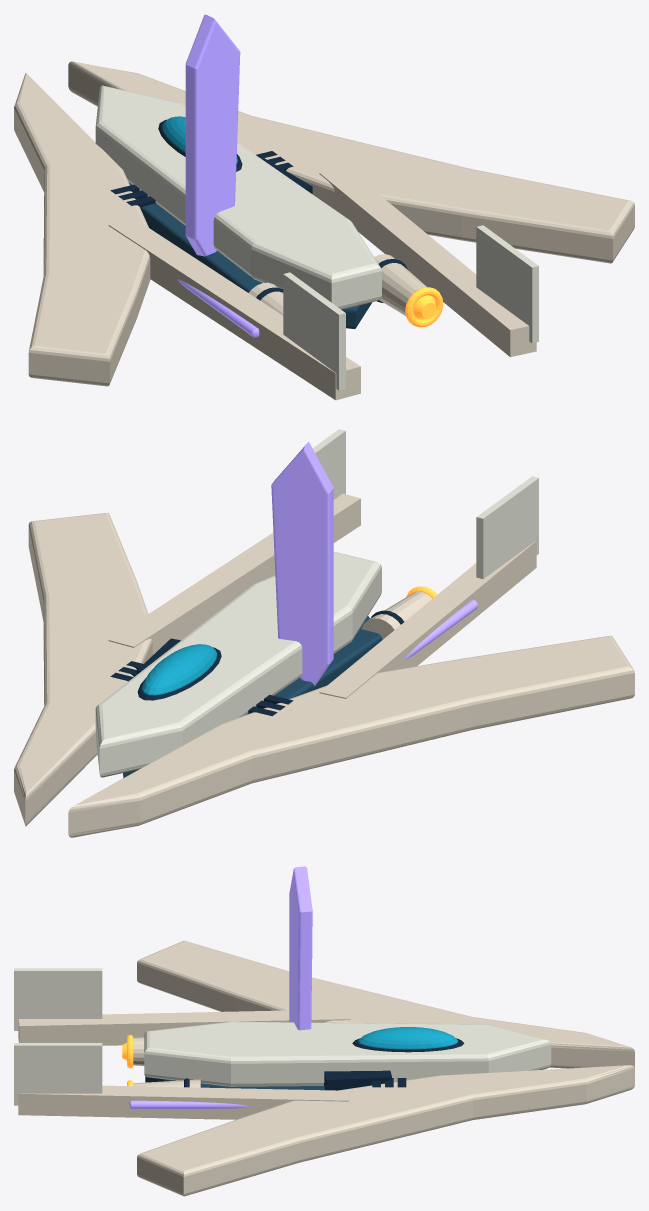
The model's file is wraith-medium.glb.
3 views of the same model, one above another, from view 1: azimuth 30°, elevation 25°; view 2: azimuth 150°, elevation 25°; view 3: azimuth 270°, elevation 25° (orthographic). The views are drawn at different scales.
Parts seen in each view (by area): view 1: hull_static, porcelain_static, trim_static, accent_static, dark_static, engine_static, glass_static; view 2: hull_static, porcelain_static, trim_static, glass_static, accent_static, dark_static; view 3: hull_static, porcelain_static, trim_static, dark_static, glass_static, accent_static.
Part boxes in pixels (<box>): hull_static: <box>14,61,634,400</box>; porcelain_static: <box>95,85,538,390</box>; trim_static: <box>177,14,259,337</box>; accent_static: <box>128,182,372,328</box>; dark_static: <box>110,119,407,302</box>; engine_static: <box>405,287,443,327</box>; glass_static: <box>162,116,237,164</box>; hull_static: <box>14,493,634,837</box>; porcelain_static: <box>95,429,538,777</box>; trim_static: <box>271,441,477,685</box>; glass_static: <box>142,644,217,695</box>; accent_static: <box>123,616,382,777</box>; dark_static: <box>110,610,404,716</box>; hull_static: <box>18,940,634,1196</box>; porcelain_static: <box>14,968,551,1105</box>; trim_static: <box>129,866,312,1108</box>; dark_static: <box>184,1038,464,1090</box>; glass_static: <box>358,1027,458,1049</box>; accent_static: <box>145,1076,324,1090</box>.
Size of the model in its own units: 351 by 144 by 394.
